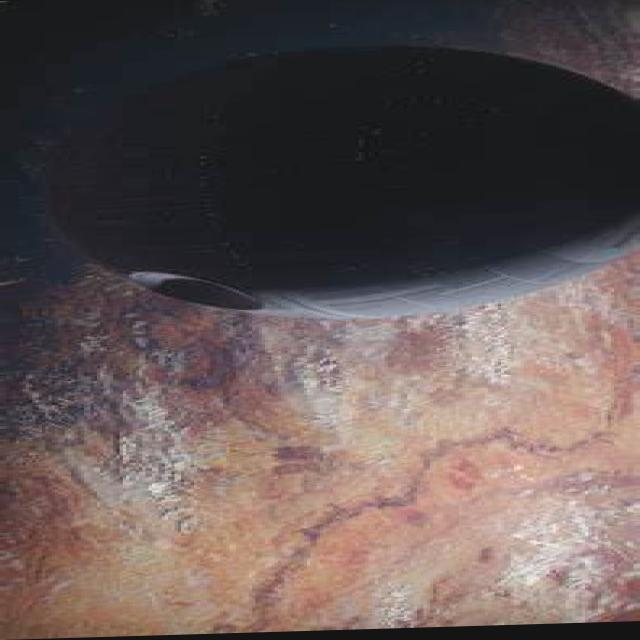deathStar: (41, 38, 640, 336)
